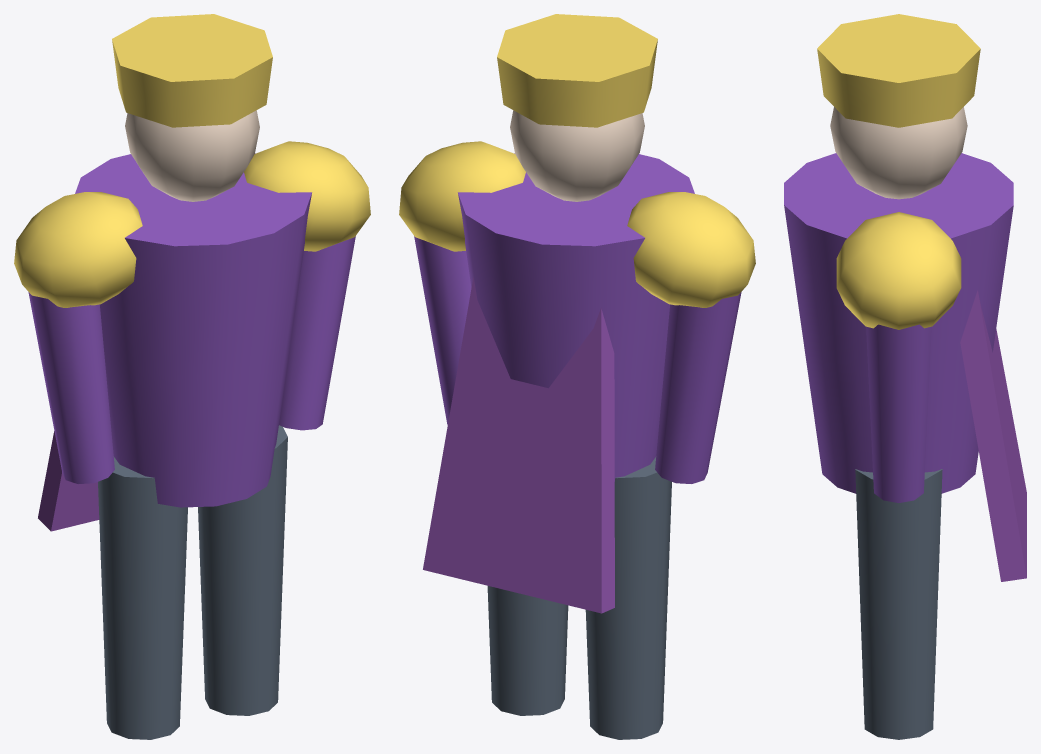
The model's file is hero_dl.glb.
3 renders of one model, left to right at view 1: azimuth 30°, elevation 25°; view 2: azimuth 150°, elevation 25°; view 3: azimuth 270°, elevation 25°, orthographic.
Visible parts, largest first — view 1: armor_torso, greaves, arms, pauldrons, crown, head, cloak; view 2: cloak, armor_torso, greaves, pauldrons, arms, crown, head; view 3: armor_torso, greaves, crown, pauldrons, arms, cloak, head.
Part boxes in pixels (<box>): armor_torso: <box>75,153,311,507</box>; greaves: <box>98,425,287,739</box>; arms: <box>28,236,355,483</box>; pauldrons: <box>14,141,370,307</box>; crown: <box>112,14,272,127</box>; head: <box>125,110,259,201</box>; cloak: <box>38,431,99,531</box>; cloak: <box>423,277,614,613</box>; armor_torso: <box>458,153,694,481</box>; greaves: <box>487,456,671,739</box>; pauldrons: <box>399,141,755,307</box>; arms: <box>414,236,741,483</box>; crown: <box>497,14,657,127</box>; head: <box>510,110,644,201</box>; armor_torso: <box>784,153,1013,493</box>; greaves: <box>855,469,942,739</box>; crown: <box>817,14,980,127</box>; pauldrons: <box>836,212,961,329</box>; arms: <box>866,324,931,502</box>; cloak: <box>960,290,1026,581</box>; head: <box>830,107,967,199</box>.
Bounding box in the file's own units: 1.18 × 2.2 × 0.7421.
